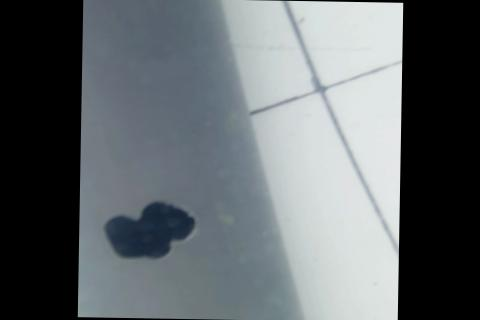kebocoran: (102, 198, 196, 260)
